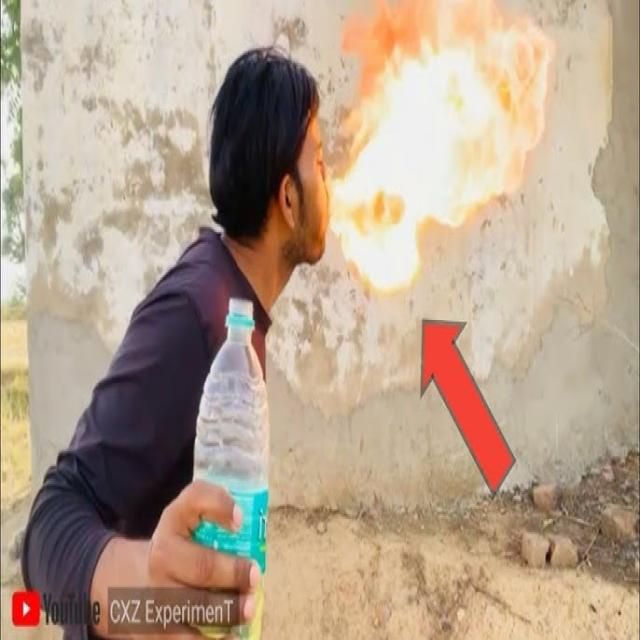fire: (328, 0, 555, 292)
